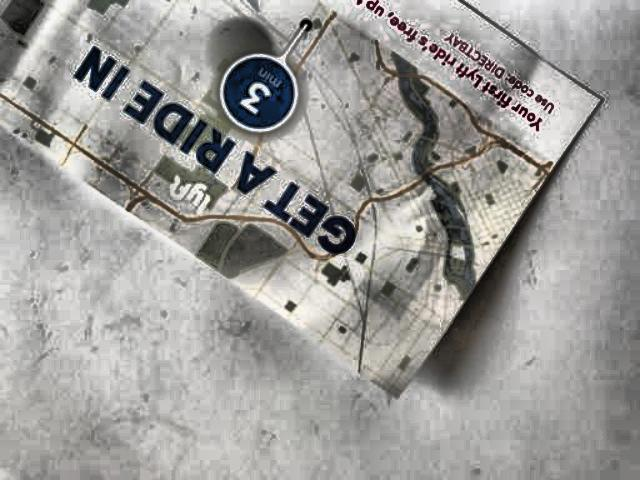Paper: (4, 0, 605, 468)
